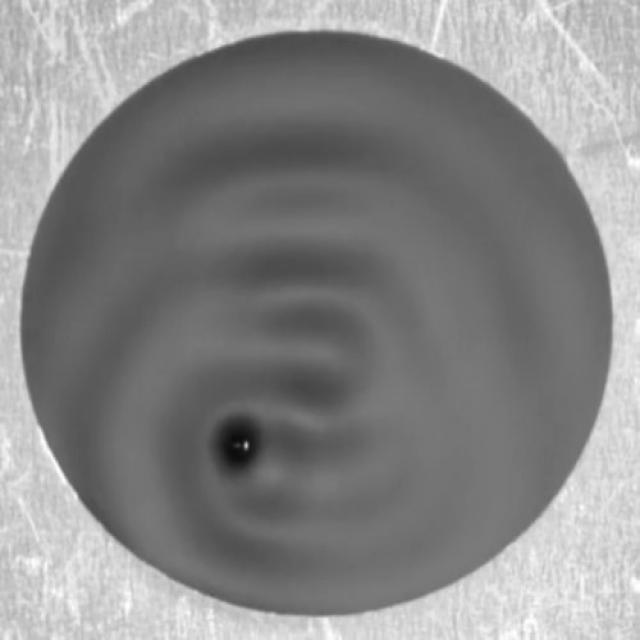droplet: (225, 431, 253, 467)
